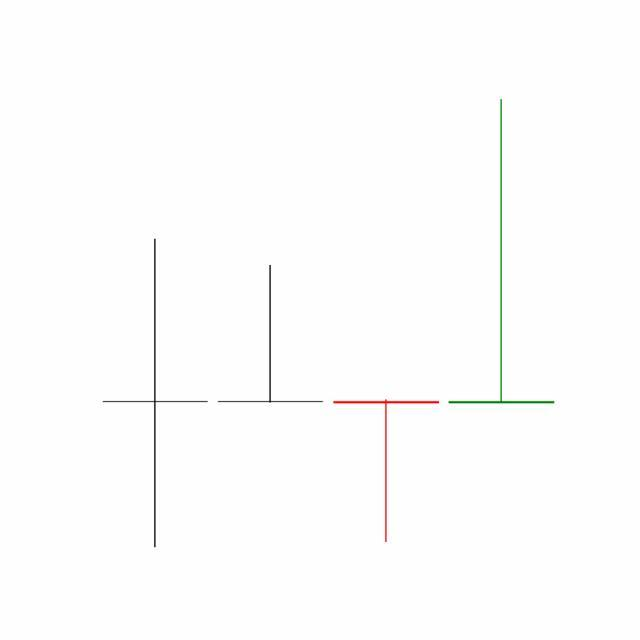Gravestone Doji: (444, 97, 560, 408)
